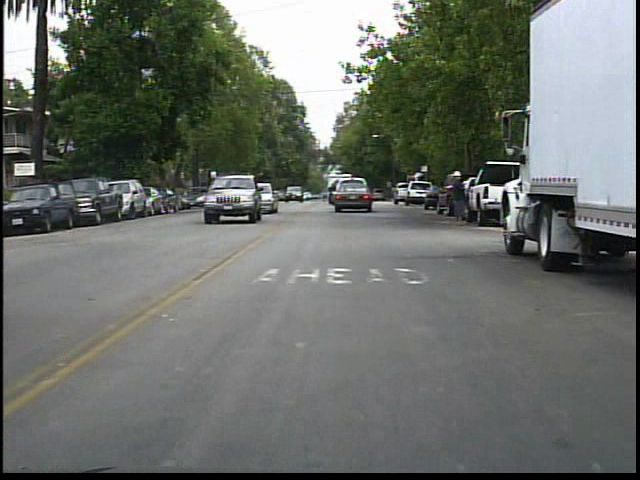person: (445, 167, 473, 227)
